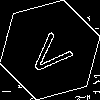V: (25, 25, 81, 81)
